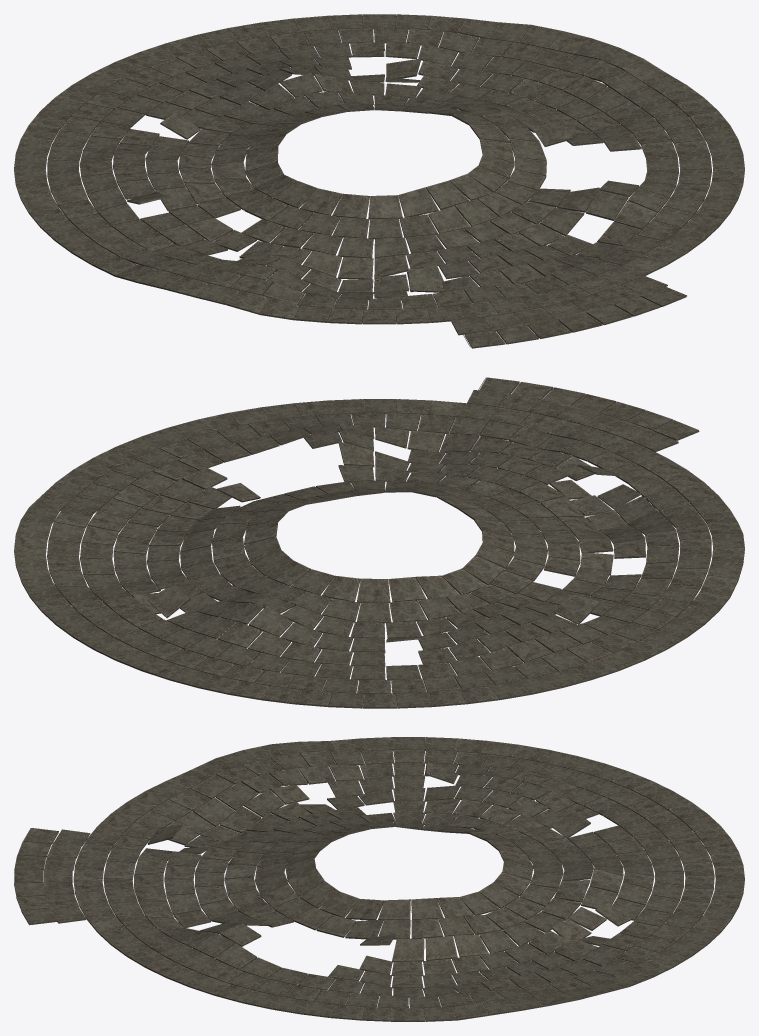
The model's file is 04_03_lab_panels_heart_room_floor_tiles.dae.
The picture shows the model from 3 angles, top to bottom: view 1: azimuth 30°, elevation 25°; view 2: azimuth 150°, elevation 25°; view 3: azimuth 270°, elevation 25°; orthographic projection. The views are drawn at different scales.
Parts seen in each view (by area): view 1: tiles_warped; view 2: tiles_warped; view 3: tiles_warped.
Boxes of the visible parts, box(x1,y1,x2,y2) form: tiles_warped: box(14, 14, 744, 348); tiles_warped: box(14, 377, 744, 708); tiles_warped: box(14, 737, 744, 1021).
Size of what is drawn, in the model's own units: 23.52 by 1.29 by 25.64.
